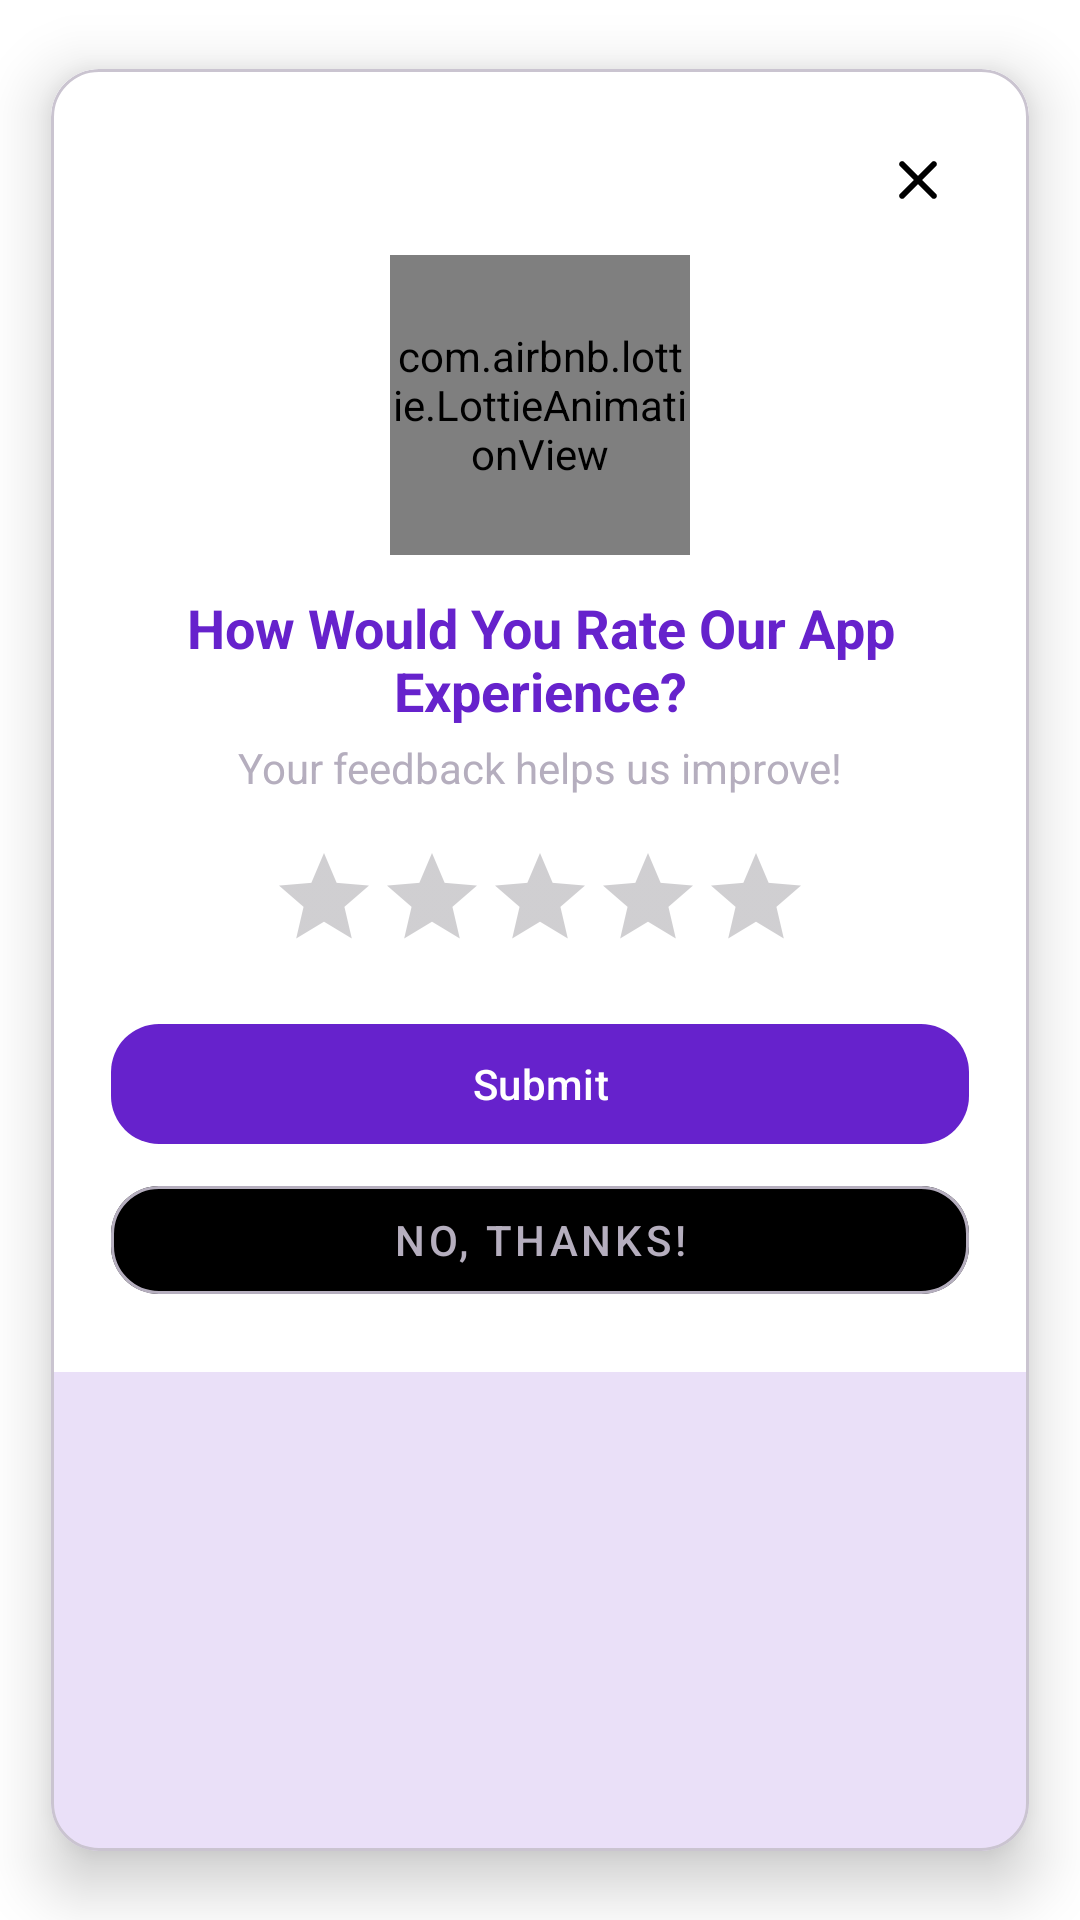

Icon click points for this 1080w x 1920h phone screenshot, format (x=x, y=y):
close: (x=918, y=180)
